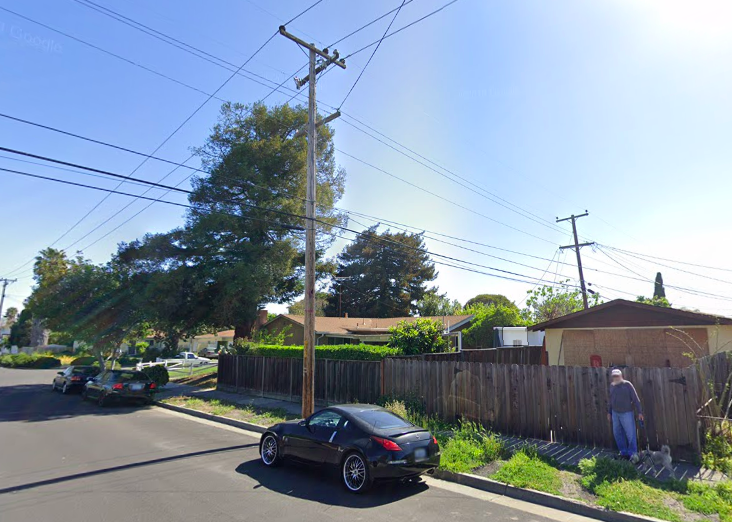tree: (181, 97, 350, 344)
utility_pole: (270, 14, 362, 144), (549, 197, 600, 270)
